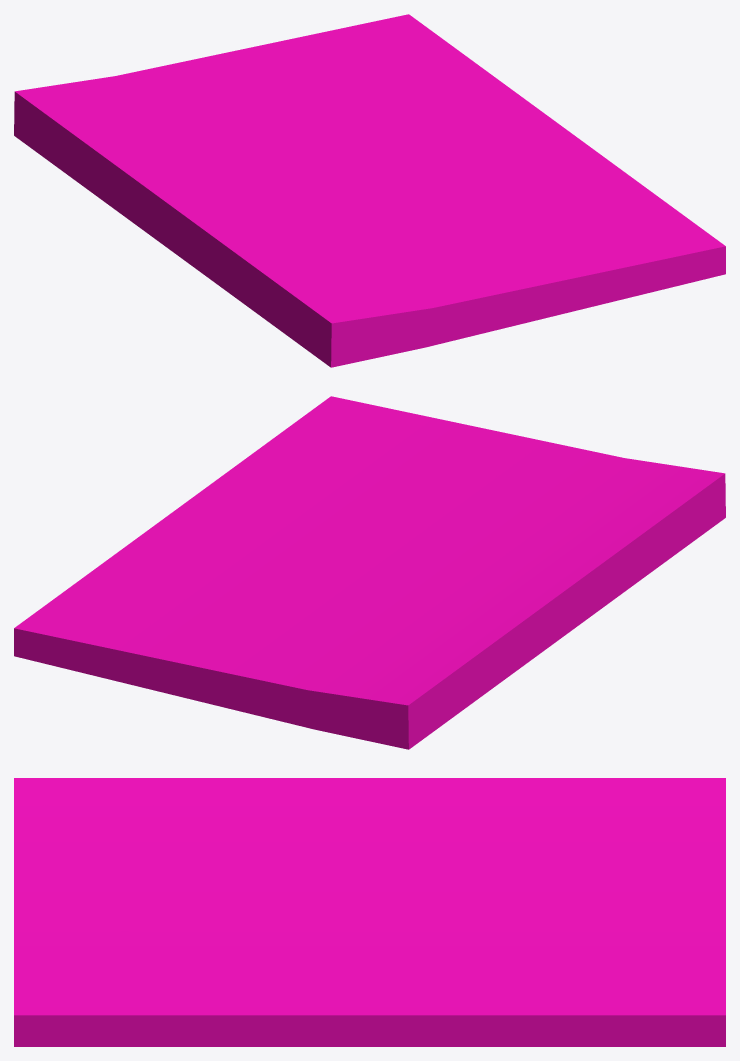
File: study_magazine_2_meshCollider.fbx
3 renders of one model, top to bottom at view 1: azimuth 30°, elevation 25°; view 2: azimuth 150°, elevation 25°; view 3: azimuth 270°, elevation 25°, orthographic. The views are drawn at different scales.
Visible parts, largest first — view 1: study_magazine_2_meshCollider; view 2: study_magazine_2_meshCollider; view 3: study_magazine_2_meshCollider.
Part boxes in pixels (<box>): study_magazine_2_meshCollider: <box>14,14,725,367</box>; study_magazine_2_meshCollider: <box>14,396,725,749</box>; study_magazine_2_meshCollider: <box>14,778,725,1046</box>.
Bounding box in the file's own units: 14.99 × 1.7 × 20.85.
